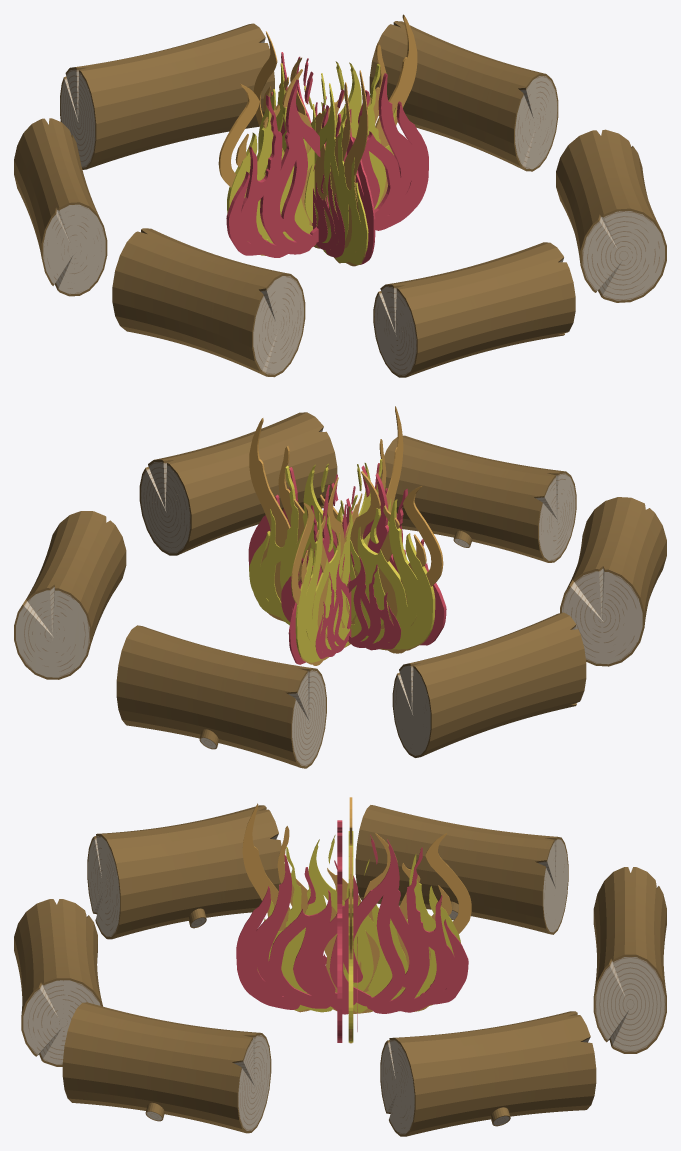
File: fireplace.glb
The picture shows the model from 3 angles, top to bottom: view 1: azimuth 30°, elevation 25°; view 2: azimuth 150°, elevation 25°; view 3: azimuth 270°, elevation 25°; orthographic projection. The views are drawn at different scales.
Visible parts, largest first — view 1: Mesh_Mesh_head_geo.001_lambert2SG.001; view 2: Mesh_Mesh_head_geo.001_lambert2SG.001; view 3: Mesh_Mesh_head_geo.001_lambert2SG.001.
Part boxes in pixels (x1,y1,x2,y2): Mesh_Mesh_head_geo.001_lambert2SG.001: (14, 14, 666, 377); Mesh_Mesh_head_geo.001_lambert2SG.001: (14, 406, 666, 768); Mesh_Mesh_head_geo.001_lambert2SG.001: (14, 797, 666, 1136).
Bounding box in the file's own units: 0.1014 × 0.0391 × 0.107.
